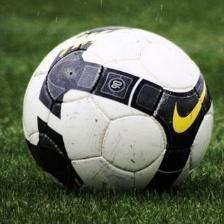Sports-Ball: (20, 25, 215, 200)
